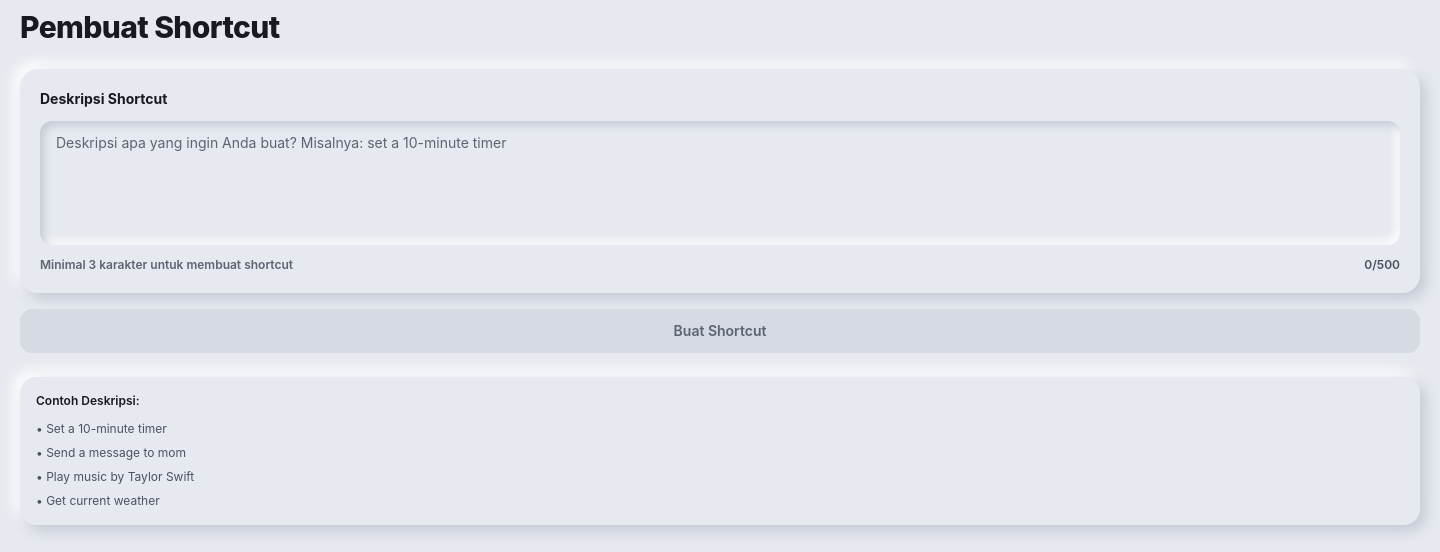
Scenario: ShortcutsScreen - E2E Frontend Tests › 1. Happy Path: Valid Shortcut Generation › updates character counter as user types
Expected: the text "0/500" is shown, [1364, 257, 1400, 273]
Type "hello" into the text box with placeholder "Deskripsi apa" at (720, 183), box [40, 121, 1400, 245]
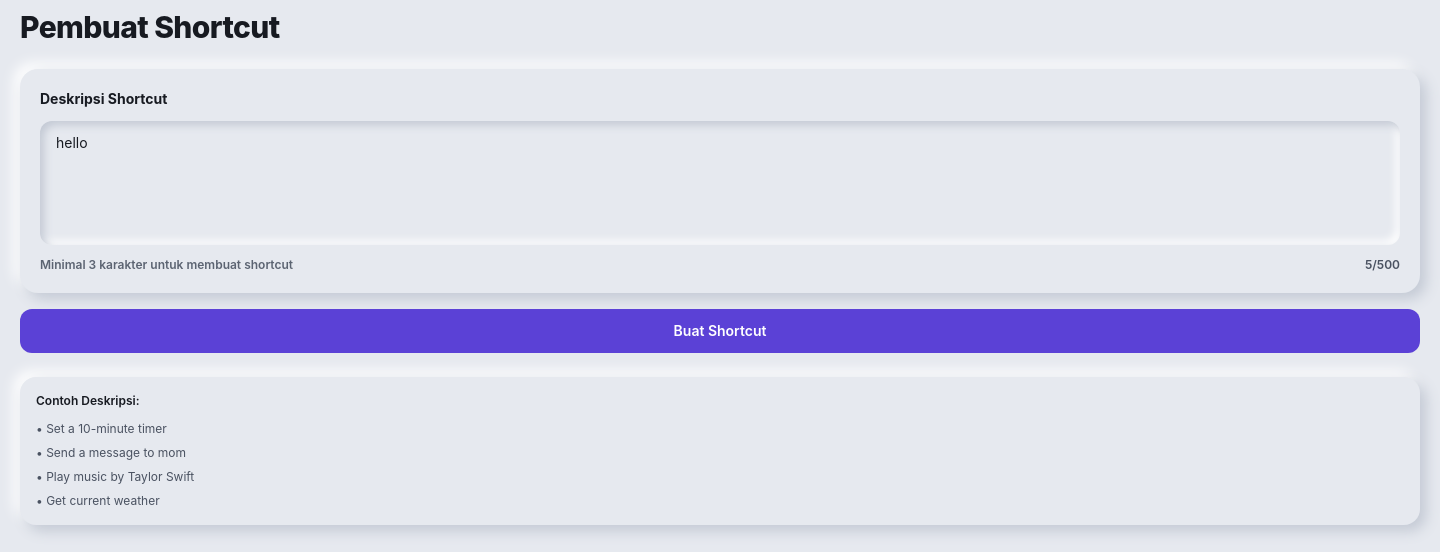
Now the text "5/500" is shown, box [1365, 257, 1400, 273]
Type 5 more characters
Type " world" into the text box with placeholder "Deskripsi apa" at (720, 183), box [40, 121, 1400, 245]
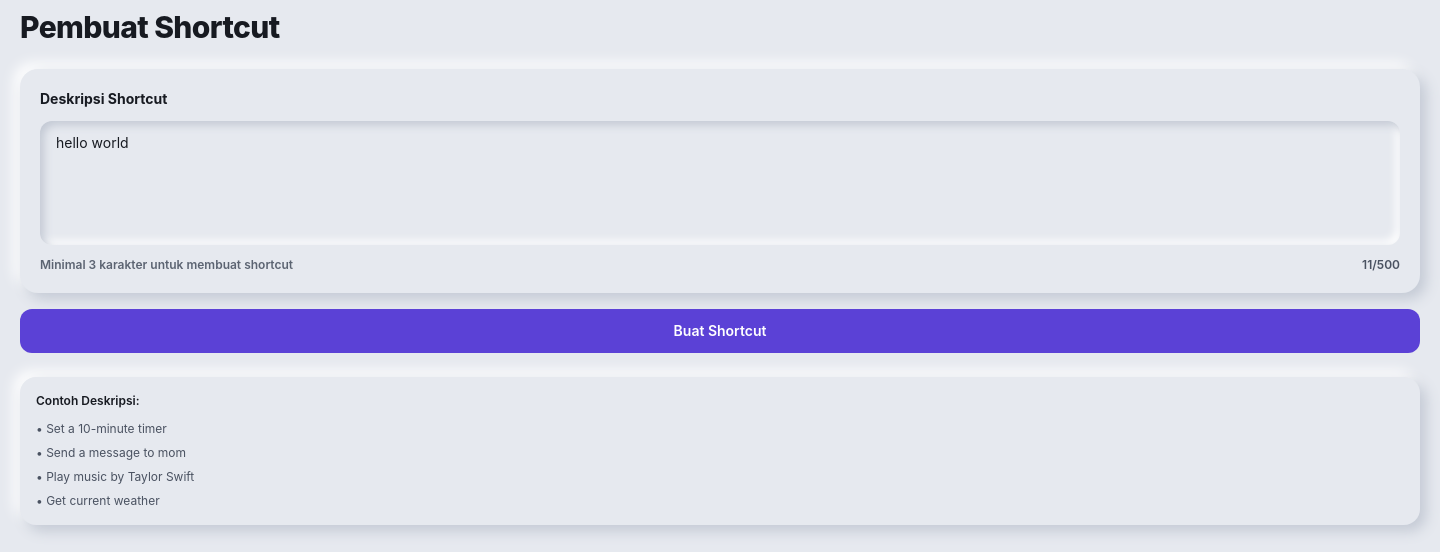
Now the text "11/500" is shown, box [1362, 257, 1400, 273]
